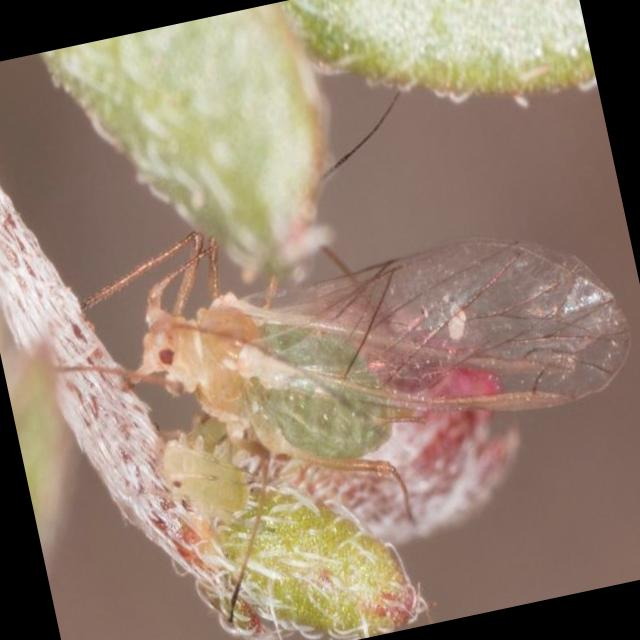aphid: (110, 168, 605, 556)
